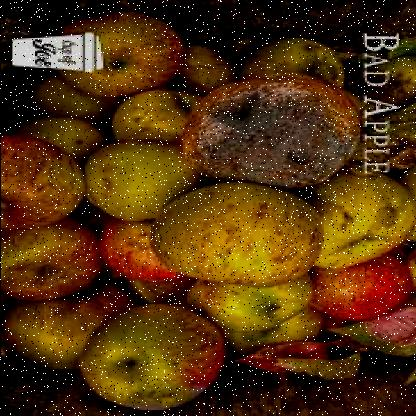damaged_apple: (186, 68, 362, 184), (161, 183, 328, 283), (109, 304, 221, 412), (57, 14, 189, 98), (305, 168, 412, 265), (2, 125, 96, 227), (6, 220, 104, 296), (202, 271, 316, 330)
